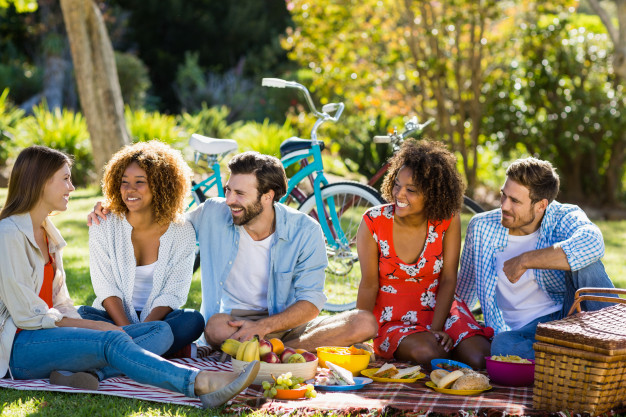Person: (1, 144, 261, 417), (185, 150, 379, 352), (454, 155, 620, 365), (356, 136, 492, 372), (76, 136, 206, 358)
